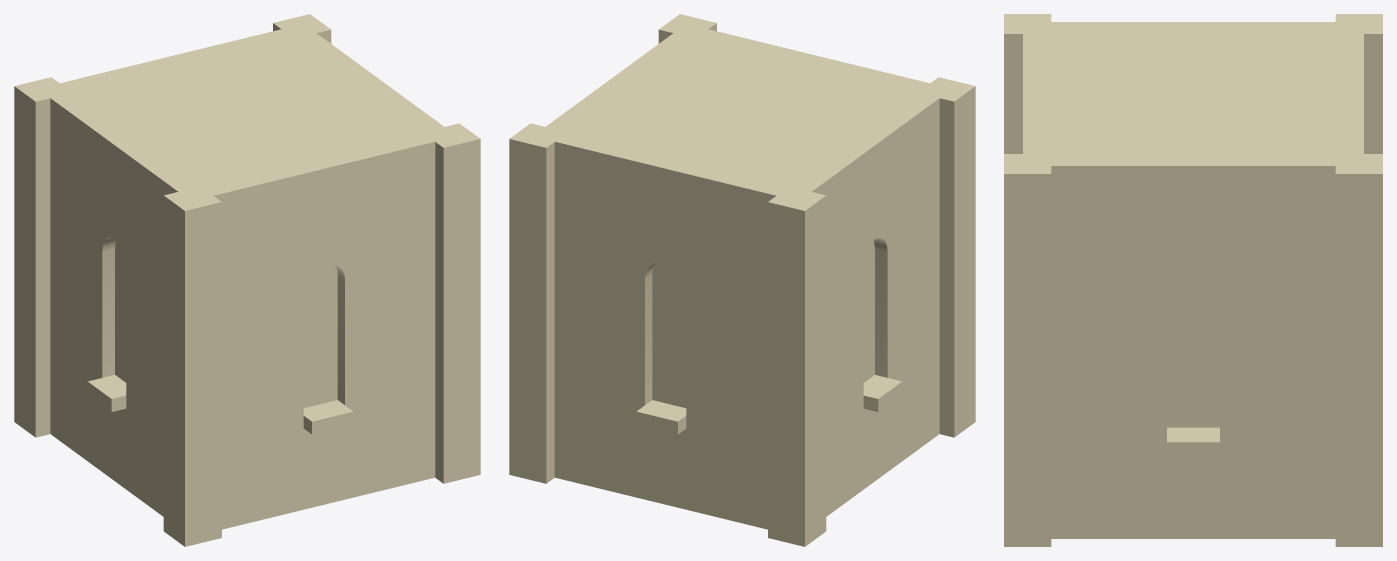
The model's file is towerSquareMidWindows.fbx.
3 renders of one model, left to right at view 1: azimuth 30°, elevation 25°; view 2: azimuth 150°, elevation 25°; view 3: azimuth 270°, elevation 25°, orthographic. The views are drawn at different scales.
Visible parts, largest first — view 1: towerSquareMidWindows; view 2: towerSquareMidWindows; view 3: towerSquareMidWindows.
Boxes of the visible parts, x1,y1,x2,y2 form: towerSquareMidWindows: (14,14,480,546); towerSquareMidWindows: (509,14,975,546); towerSquareMidWindows: (1004,14,1382,546).
Bounding box in the file's own units: 9.3 × 10.1 × 9.3.
